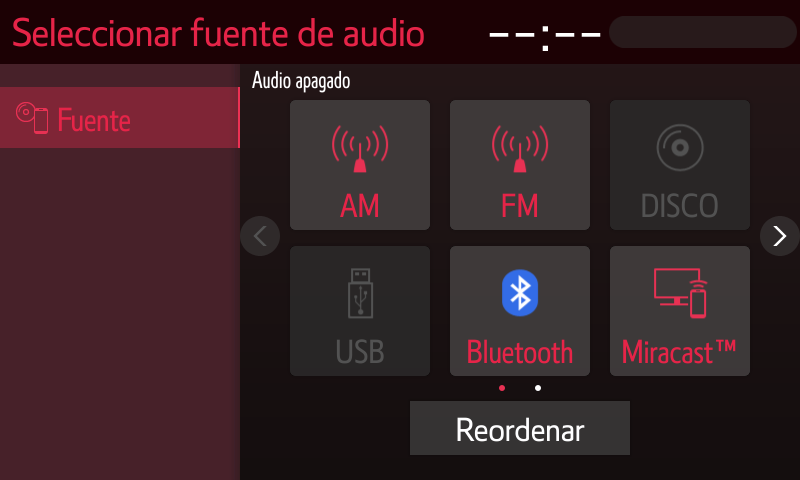touchPart: (444, 93, 595, 233), (284, 99, 433, 238), (608, 238, 753, 377), (447, 242, 592, 379), (405, 399, 641, 461), (757, 212, 798, 260)
untouchPart: (288, 244, 433, 385), (604, 98, 754, 230), (11, 10, 427, 54), (1, 82, 242, 154), (472, 8, 795, 55), (241, 213, 286, 262)
